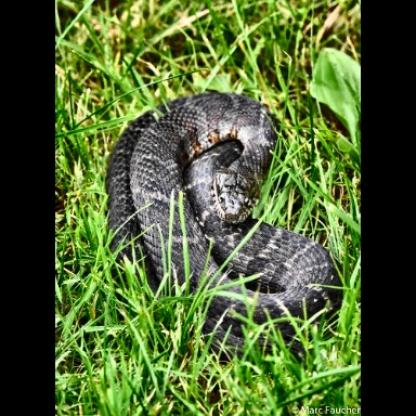Snake: (91, 84, 344, 339)
